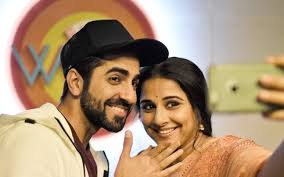Bad: (1, 20, 284, 177)
